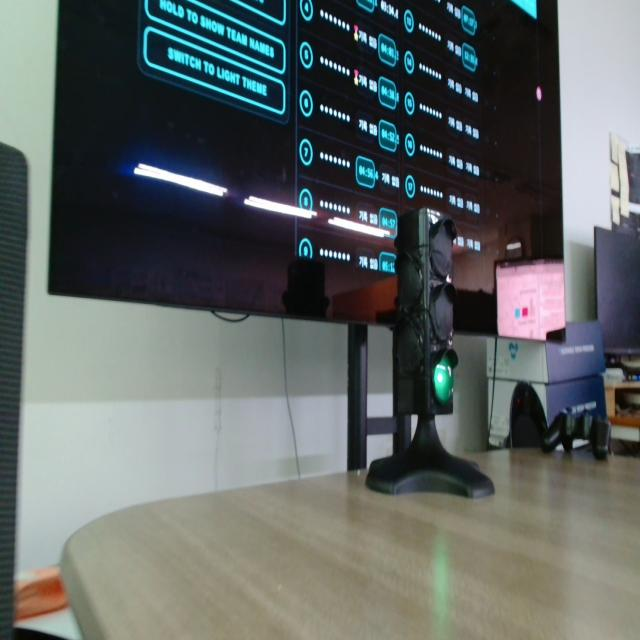green_light: (434, 355, 453, 404)
